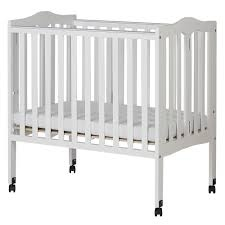crib: (7, 11, 217, 216)
